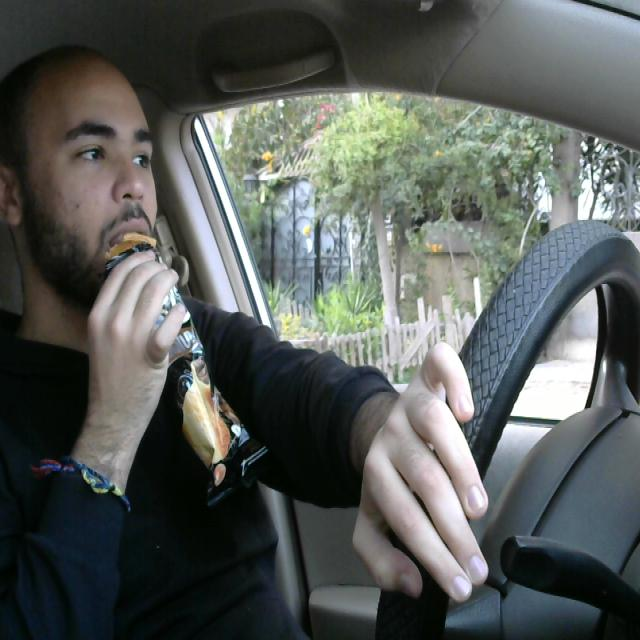eating: (96, 225, 276, 500)
